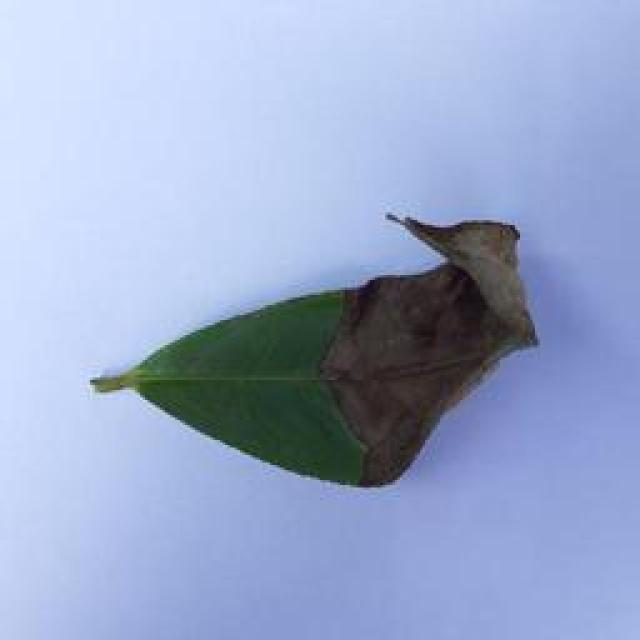Brown Blight: (71, 205, 558, 510)
